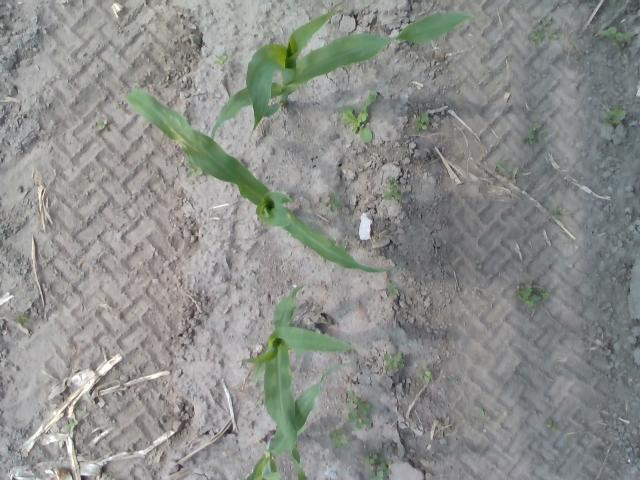Maize: (126, 88, 402, 274), (208, 6, 487, 143), (242, 283, 362, 480), (244, 364, 344, 480)
Weeds: (340, 105, 372, 143), (345, 390, 372, 430), (514, 284, 552, 308), (600, 26, 634, 48), (522, 122, 550, 148), (364, 455, 393, 480), (602, 103, 626, 126), (64, 407, 85, 431), (184, 153, 203, 178), (414, 106, 429, 134), (384, 352, 404, 373), (383, 177, 401, 200), (324, 192, 344, 212), (330, 428, 348, 448), (544, 17, 559, 39), (494, 156, 512, 174), (530, 24, 544, 45), (418, 362, 432, 382), (476, 406, 492, 420), (550, 204, 564, 220), (364, 90, 378, 105), (214, 54, 228, 68), (386, 281, 399, 294), (17, 312, 30, 324), (544, 419, 558, 430), (96, 120, 108, 130), (474, 259, 482, 269), (102, 473, 112, 480)
